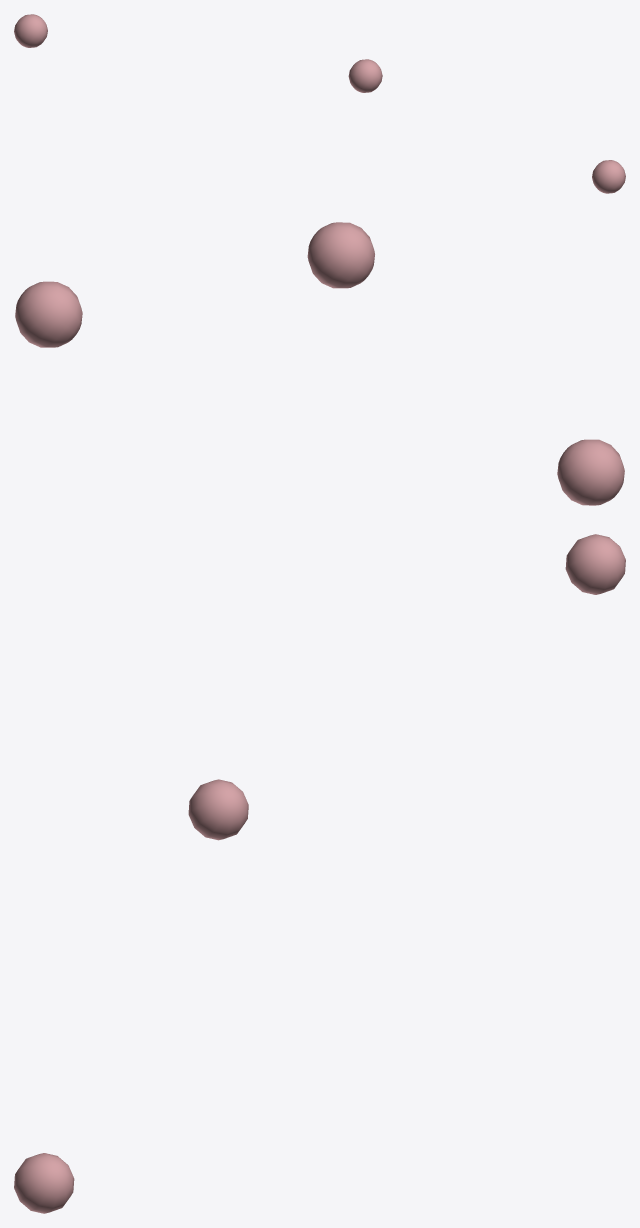
The picture shows the model from 3 angles, top to bottom: view 1: azimuth 30°, elevation 25°; view 2: azimuth 150°, elevation 25°; view 3: azimuth 270°, elevation 25°; orthographic projection. The views are drawn at different scales.
Visible parts, largest first — view 1: ZA_7a6c85dcc2e1e7be; view 2: ZA_7a6c85dcc2e1e7be; view 3: ZA_7a6c85dcc2e1e7be.
Boxes of the visible parts, left/top/right/bottom form: ZA_7a6c85dcc2e1e7be: left=14, top=14, right=625, bottom=193; ZA_7a6c85dcc2e1e7be: left=15, top=222, right=624, bottom=505; ZA_7a6c85dcc2e1e7be: left=14, top=534, right=625, bottom=1213.
Size of the model in its own units: 0.04 by 0.0141 by 0.026.
